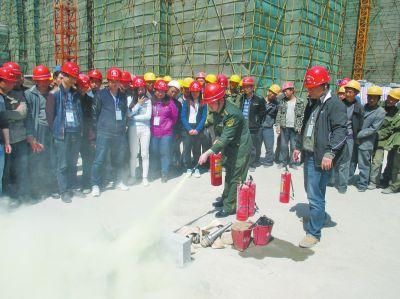helmet: (306, 68, 330, 89), (1, 63, 22, 84), (204, 84, 226, 103), (77, 73, 93, 93), (64, 63, 81, 79), (34, 66, 52, 81), (189, 82, 205, 97), (108, 69, 123, 83), (346, 81, 361, 93), (90, 70, 104, 82), (369, 87, 384, 98), (145, 71, 158, 83), (244, 77, 256, 88), (270, 85, 281, 96), (122, 73, 133, 84), (134, 78, 145, 89), (390, 90, 400, 102), (197, 72, 209, 82), (157, 83, 168, 93), (170, 80, 181, 90), (231, 75, 241, 85), (284, 83, 295, 92), (55, 66, 64, 77), (208, 76, 218, 85), (146, 74, 156, 83), (339, 87, 348, 96), (169, 83, 180, 90), (179, 79, 187, 88)
